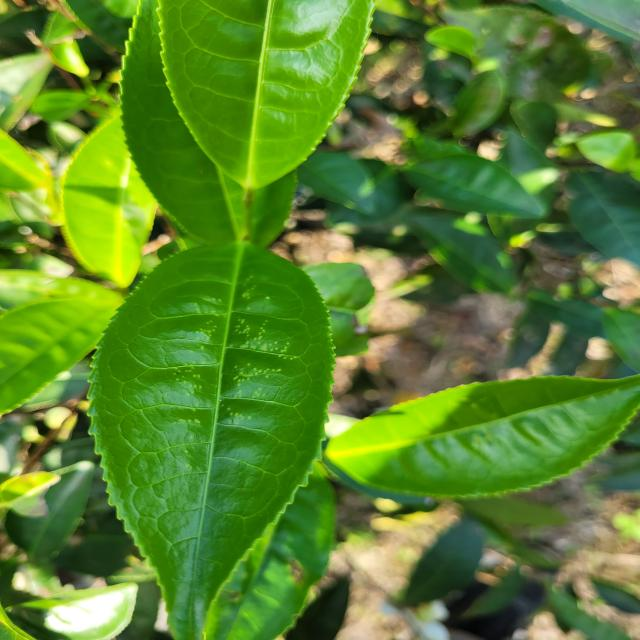Category B(2-4 days): (43, 189, 390, 640)
